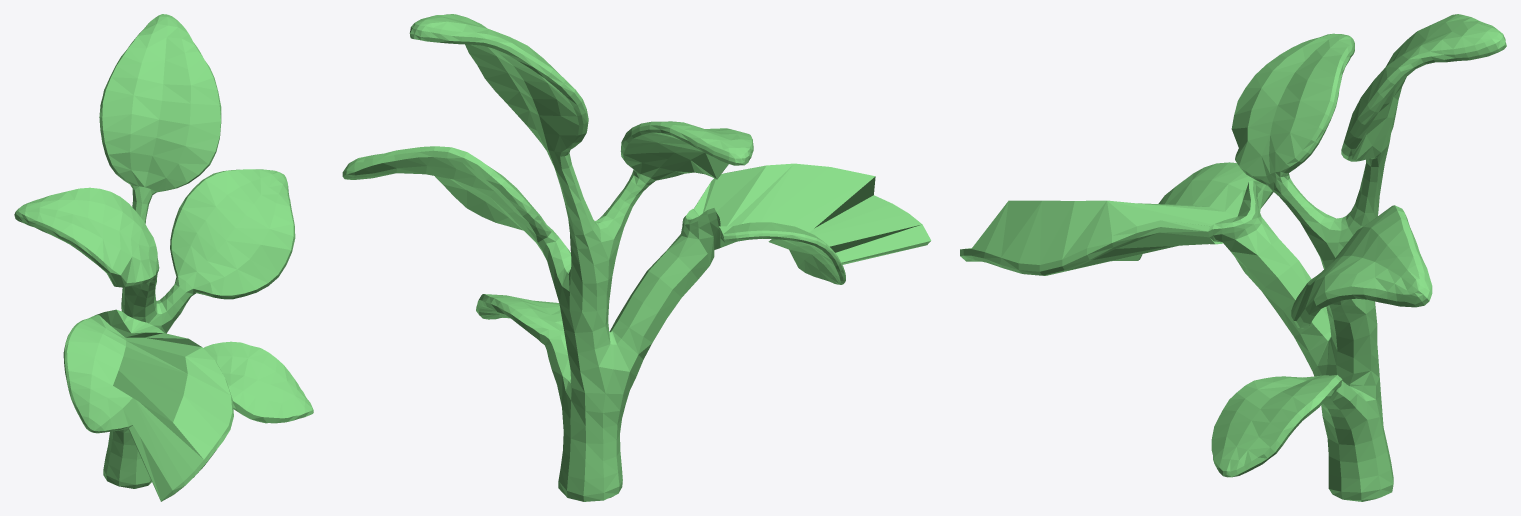
Rendered from crop_imo1.glb.
3 views of the same model, side by side, from view 1: azimuth 30°, elevation 25°; view 2: azimuth 150°, elevation 25°; view 3: azimuth 270°, elevation 25° (orthographic). The views are drawn at different scales.
Parts seen in each view (by area): view 1: leaf; view 2: leaf; view 3: leaf.
Boxes of the visible parts, <box> form: leaf: <box>14,14,313,501</box>; leaf: <box>342,14,931,501</box>; leaf: <box>960,14,1506,501</box>.
Bounding box in the file's own units: 0.1786 × 0.2227 × 0.2144.
